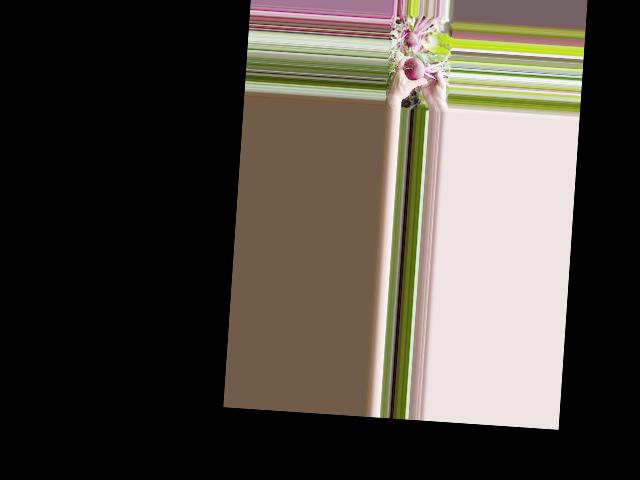beet: (402, 44, 451, 83)
